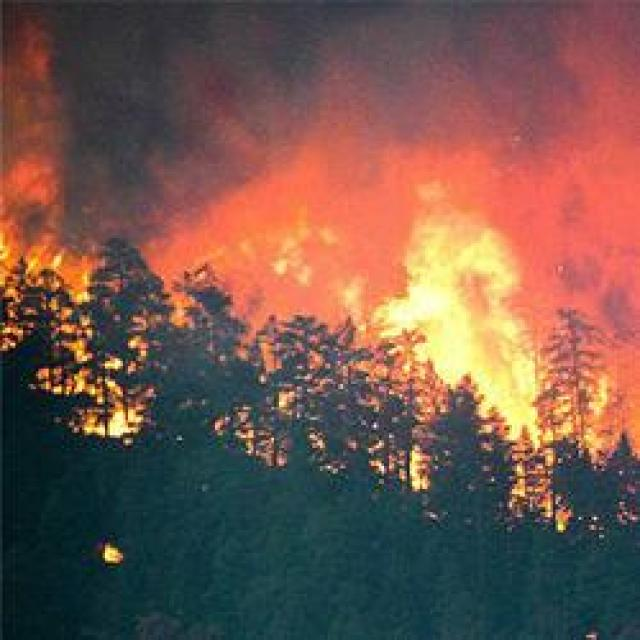fire: (0, 0, 640, 535), (97, 540, 130, 568)
